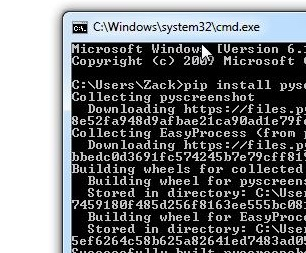cursor: (200, 41, 213, 62)
